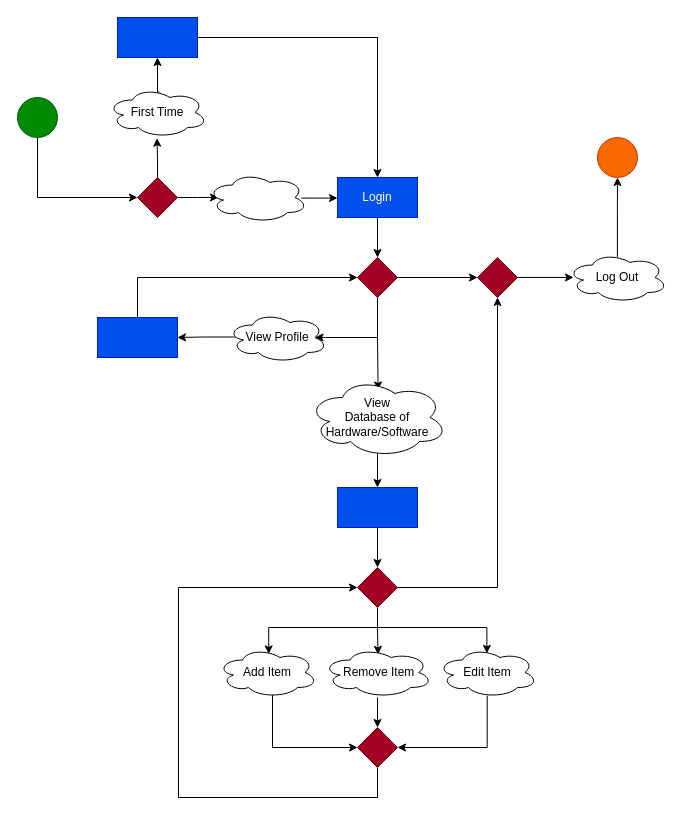
Some shapes in this 685 by 823 pixel diagram are drawn without their labels. The box of each missing label's shape, as (x1, y1, x2, y2) in pixels:
Database: (336, 486, 418, 528)
Existing User/Admin: (206, 172, 308, 222)
Profile Settings: (96, 316, 178, 358)
Register: (116, 16, 198, 58)
